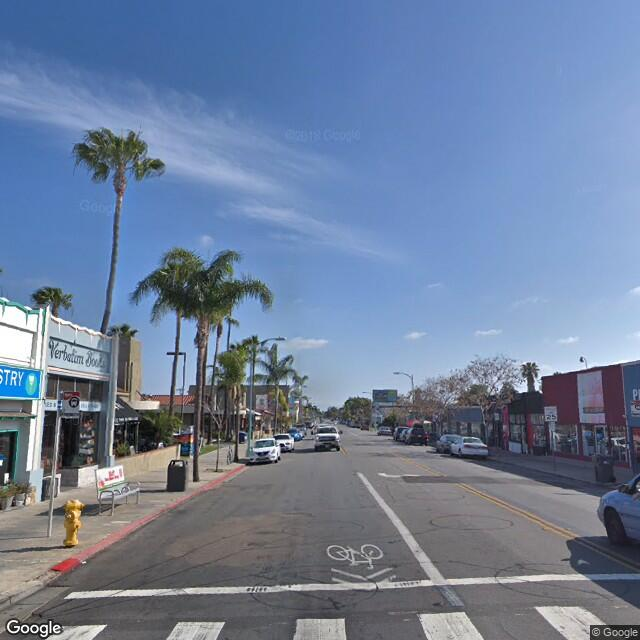road line: (353, 464, 411, 526), (404, 534, 452, 579), (463, 481, 506, 509)
